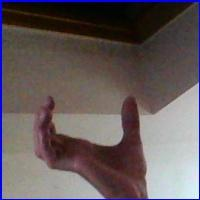space: (30, 87, 152, 186)
